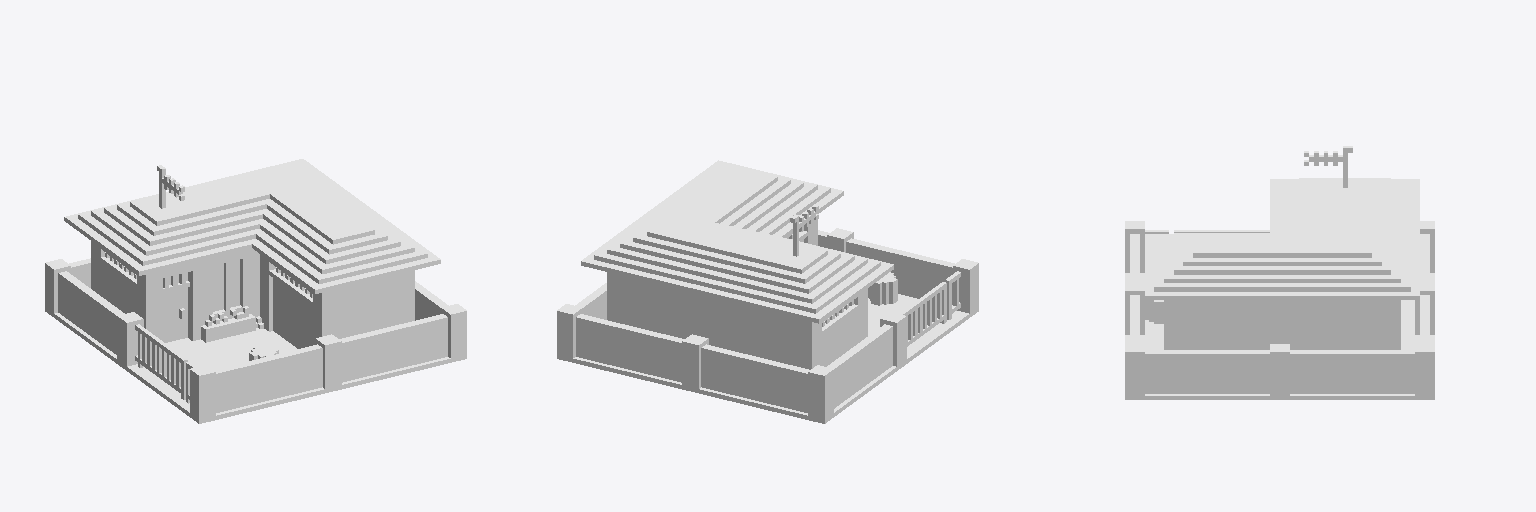
The model's file is house-1.obj.
3 views of the same model, side by side, from view 1: azimuth 30°, elevation 25°; view 2: azimuth 150°, elevation 25°; view 3: azimuth 270°, elevation 25° (orthographic).
Visible parts, largest first — view 1: object 1; view 2: object 1; view 3: object 1.
Boxes of the visible parts, x1=… form: object 1: x1=45, y1=159, x2=466, y2=423; object 1: x1=557, y1=160, x2=978, y2=423; object 1: x1=1125, y1=146, x2=1434, y2=399.
Size of the model in its own units: 6.4 by 3.6 by 6.4.